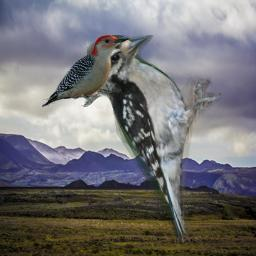Woodpecker: (87, 35, 221, 244), (42, 35, 131, 107)
